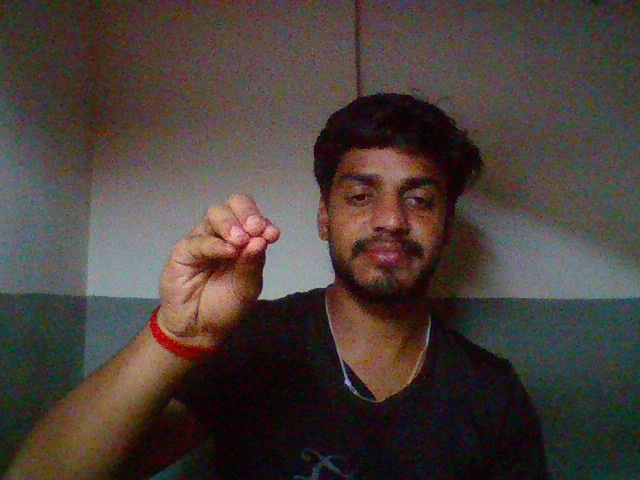Z: (143, 183, 297, 343)
